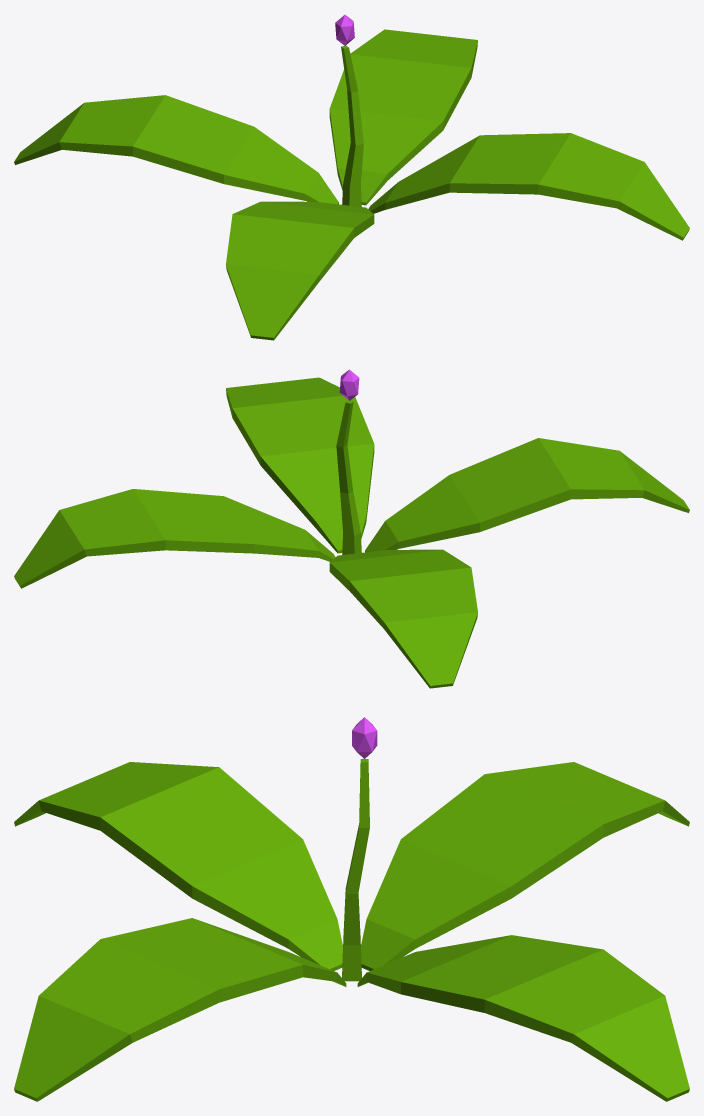
File: Plant_2.fbx
3 views of the same model, one above another, from view 1: azimuth 30°, elevation 25°; view 2: azimuth 150°, elevation 25°; view 3: azimuth 270°, elevation 25° (orthographic). The views are drawn at different scales.
Visible parts, largest first — view 1: Plant_2; view 2: Plant_2; view 3: Plant_2.
Part boxes in pixels (left/top/right/bottom): Plant_2: left=14, top=14, right=689, bottom=340; Plant_2: left=14, top=369, right=689, bottom=688; Plant_2: left=14, top=717, right=689, bottom=1101.
Bounding box in the file's own units: 137 × 57.75 × 137.
